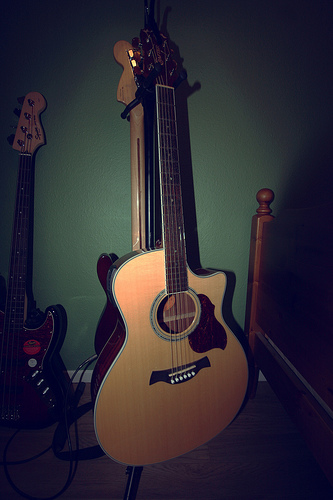guitar: (93, 29, 253, 468)
